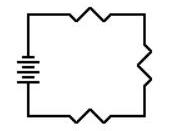Battery: (12, 47, 47, 92)
